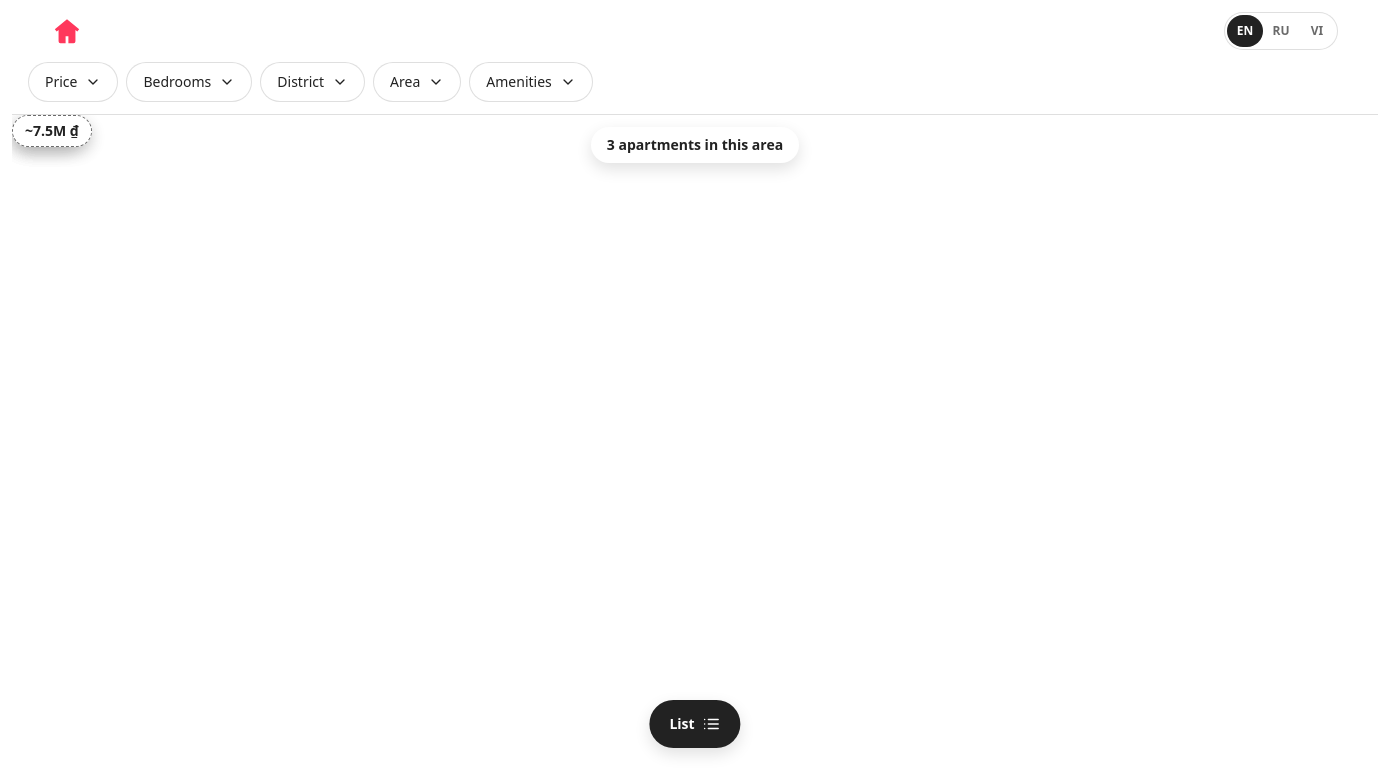
language › switches the interface to Russian and remembers the choice
Expected: the text "3 apartments in this area" is shown, [607,135,783,155]
Click the button with aria-label "Русский" at (1281, 31), box [1263,15,1299,47]
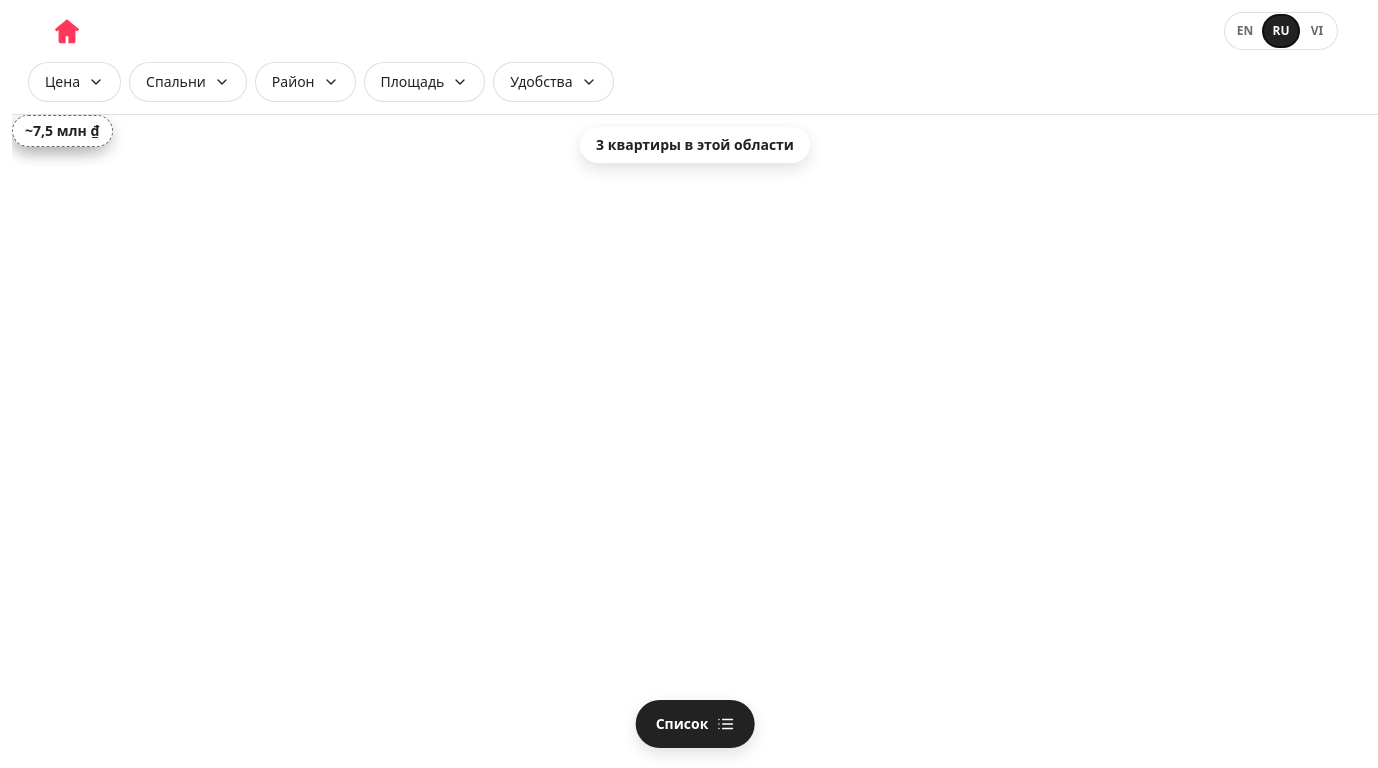
Expected: the text "3 квартиры в этой области" is shown, [596,135,794,155]
Expected: the button "Список" is shown, [636,700,754,748]
Expected: the button "12 млн ₫" is shown, [12,115,98,147]
